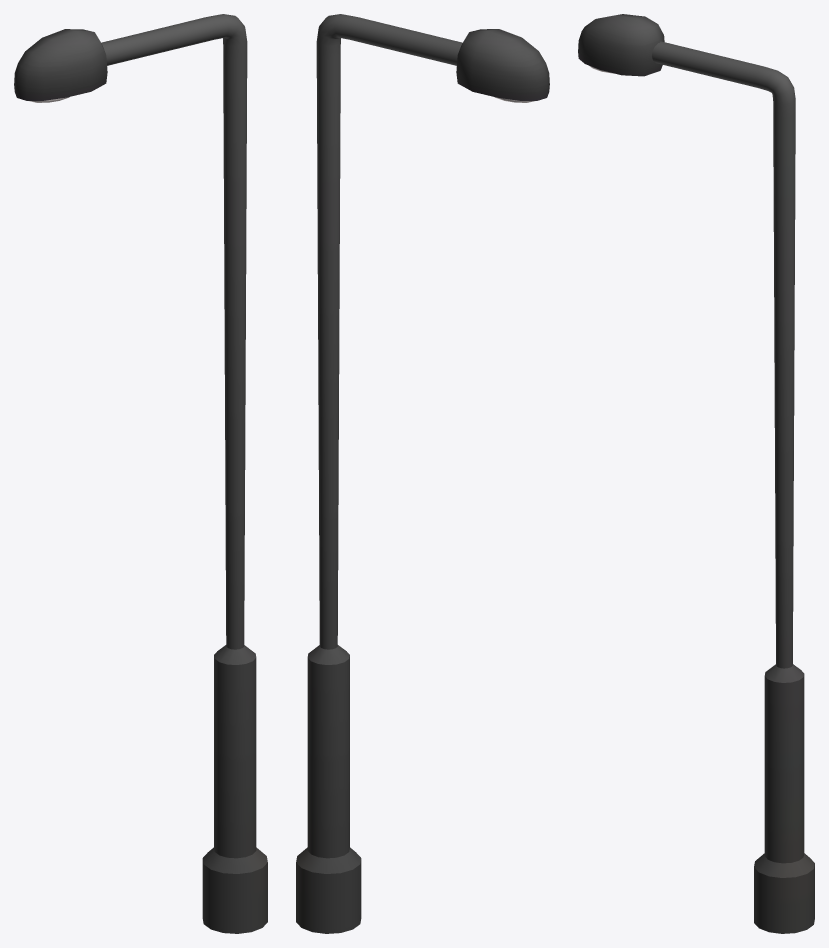
Rendered from street-light.glb.
The picture shows the model from 3 angles, left to right: view 1: azimuth 30°, elevation 25°; view 2: azimuth 150°, elevation 25°; view 3: azimuth 330°, elevation 25°; orthographic projection. The views are drawn at different scales.
Visible parts, largest first — view 1: street_light; view 2: street_light; view 3: street_light.
Part boxes in pixels (x1=…): street_light: x1=14, y1=14, x2=267, y2=933; street_light: x1=296, y1=14, x2=549, y2=933; street_light: x1=578, y1=14, x2=814, y2=933.
Bounding box in the file's own units: 1.45 × 5.19 × 0.335.
1 material, 1 textured.
